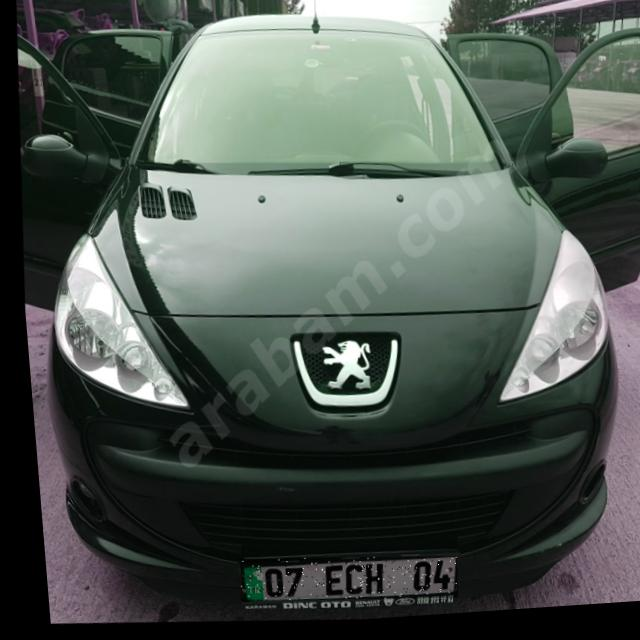license_plate: (228, 551, 450, 615)
